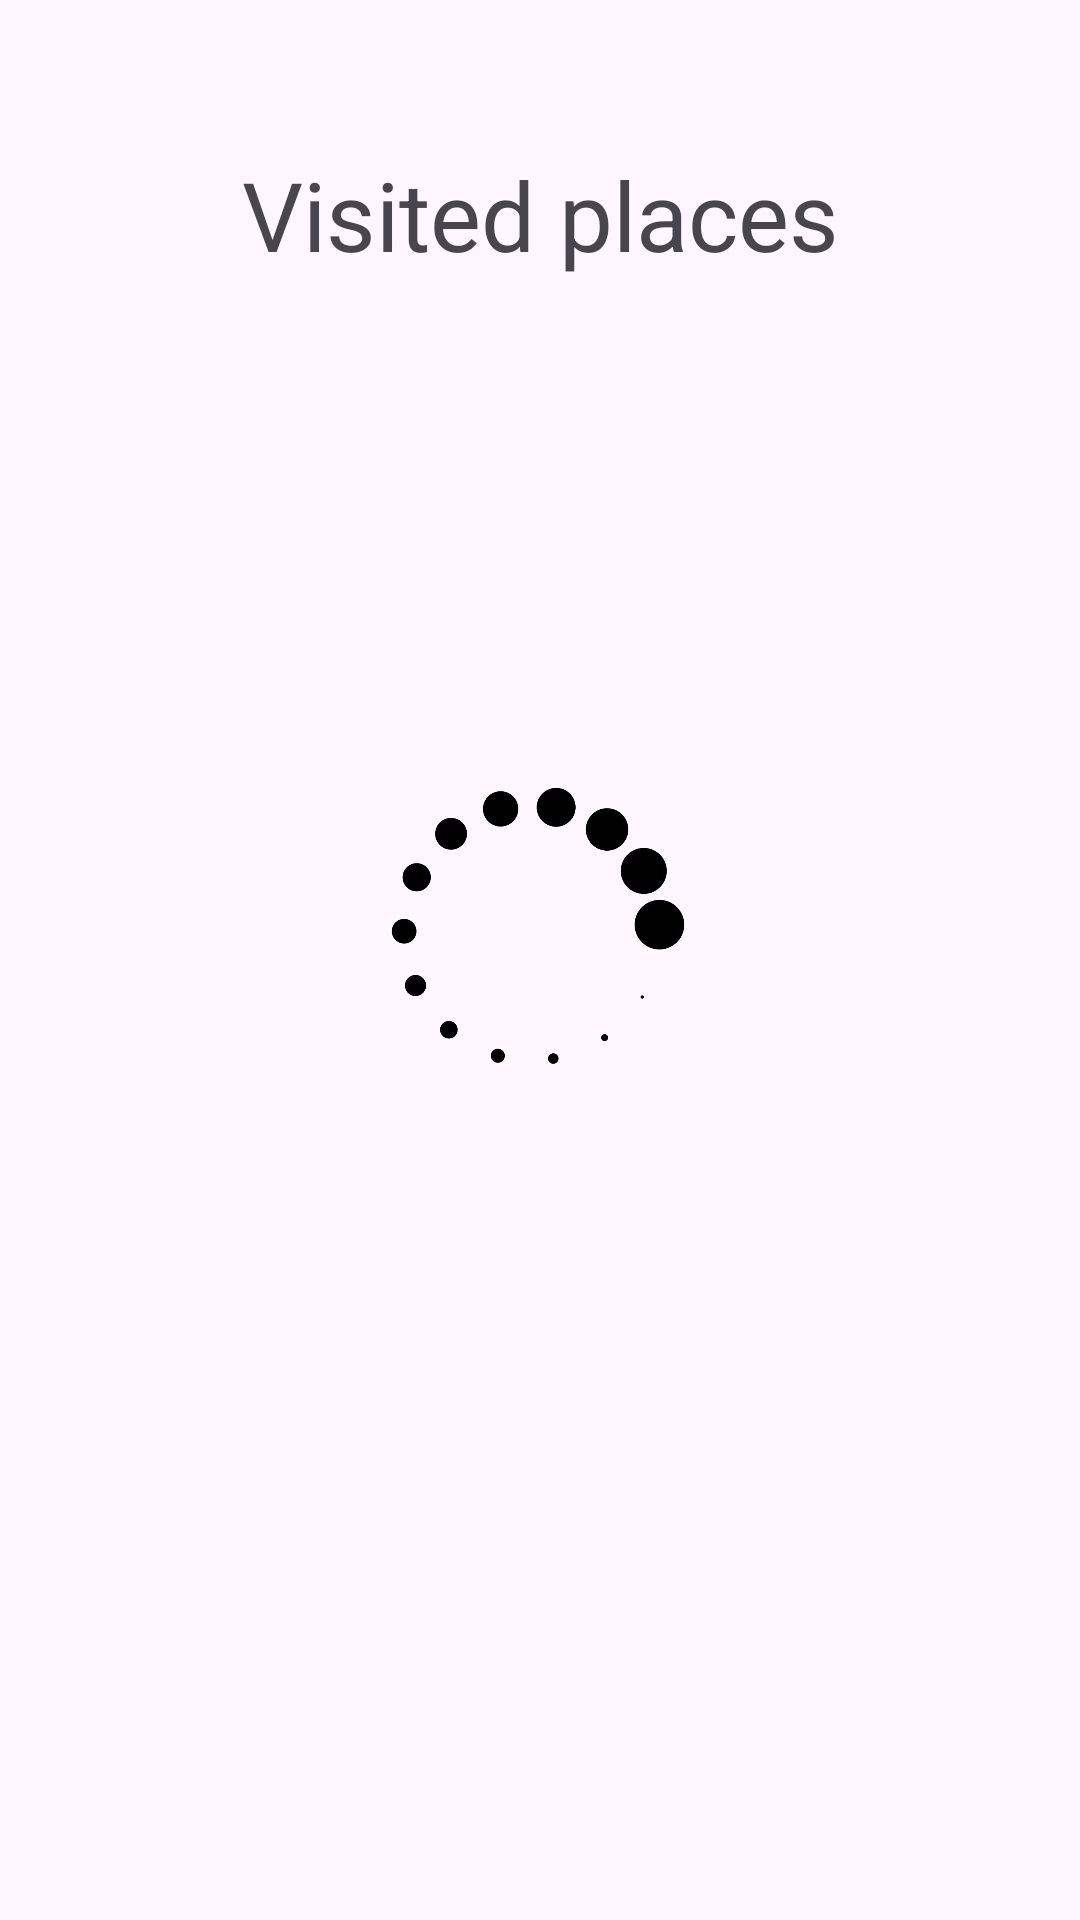

Where to tap for icons on this 1080 x 1920 app screen, as (x=x, y=y):
loading: (x=538, y=926)
